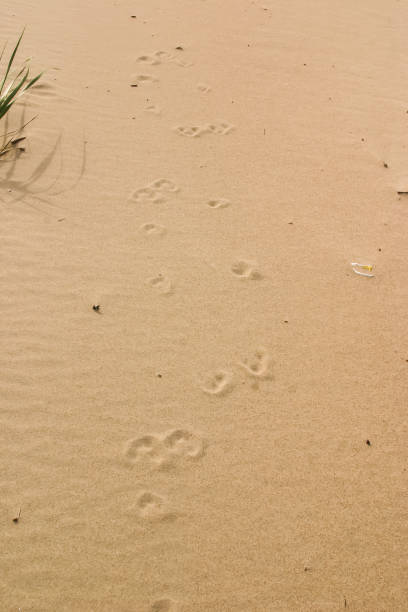animal_footprint: (124, 428, 205, 470), (124, 434, 166, 467), (163, 429, 204, 459), (129, 178, 178, 202), (136, 491, 176, 520), (239, 347, 270, 378), (136, 50, 191, 66), (175, 122, 233, 136), (201, 370, 232, 394), (231, 260, 261, 279), (147, 273, 172, 294), (130, 186, 162, 202), (149, 178, 178, 192), (149, 597, 177, 611), (175, 126, 207, 138), (205, 122, 233, 134), (140, 222, 165, 235), (130, 74, 157, 86), (136, 53, 160, 64), (207, 198, 231, 209), (144, 104, 160, 114), (197, 82, 210, 92)
